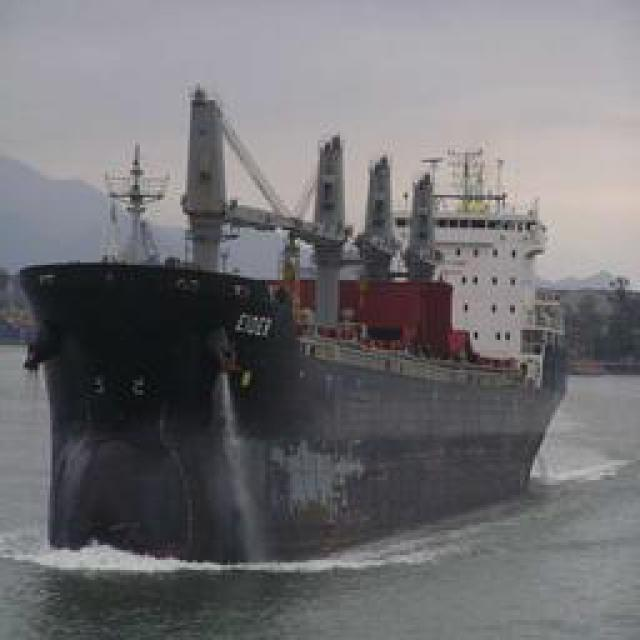Ship: (27, 71, 567, 551)
